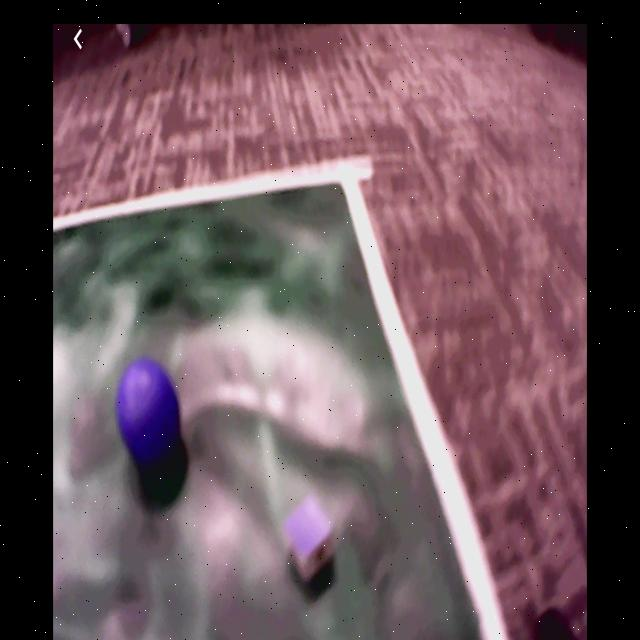ball: (117, 361, 182, 457)
